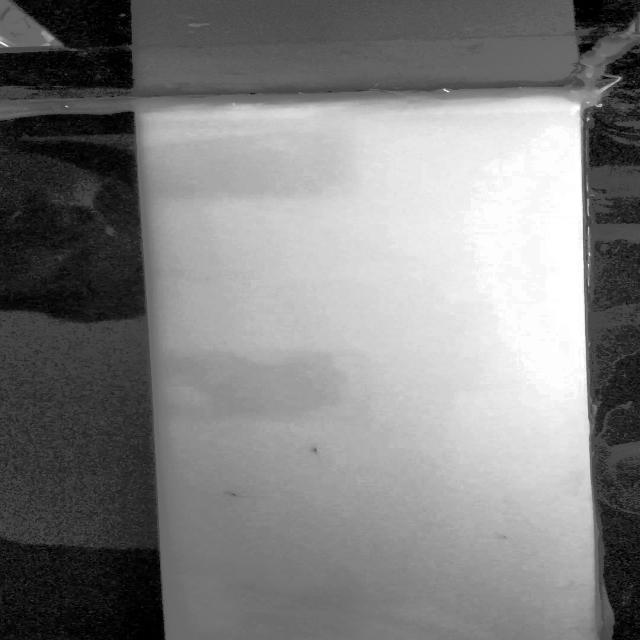shrimp: (304, 442, 328, 455), (216, 490, 243, 500)
